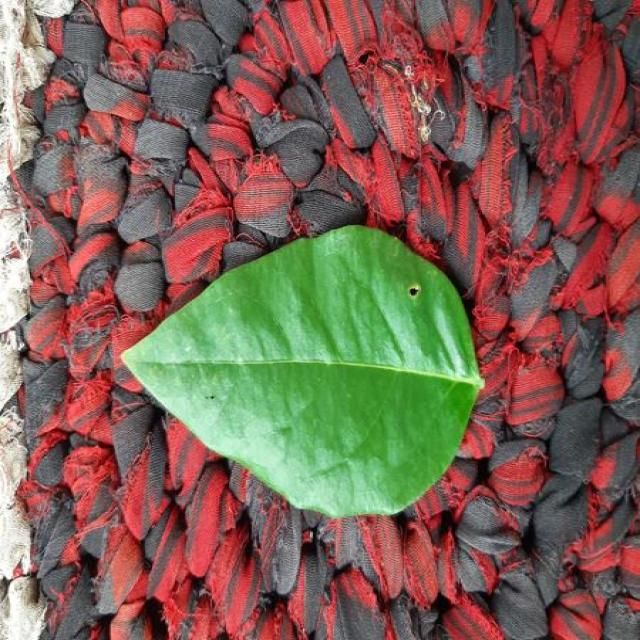amla: (123, 226, 482, 517)
defectedamla: (297, 226, 482, 413)
